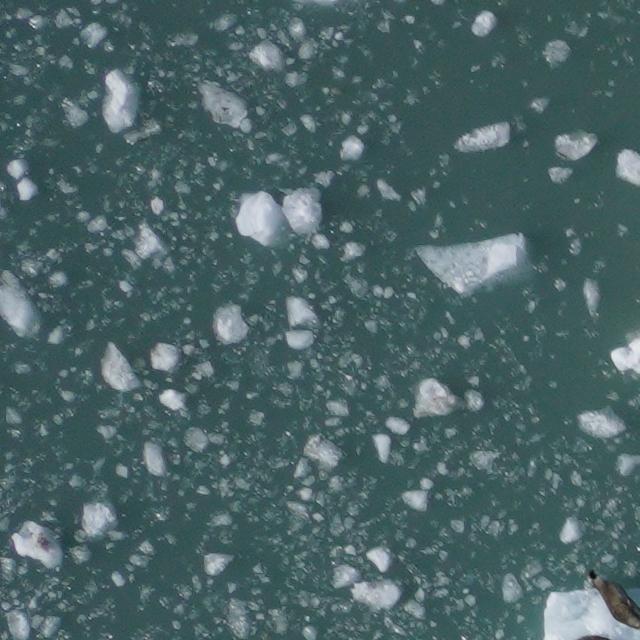seal: (585, 566, 640, 632)
